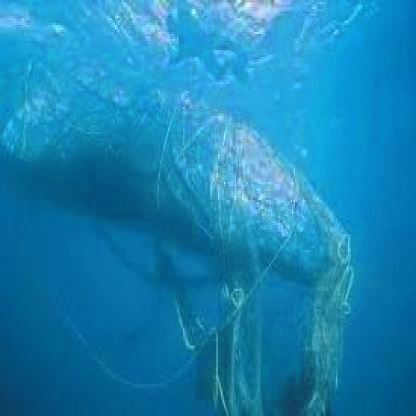net: (6, 73, 353, 293)
